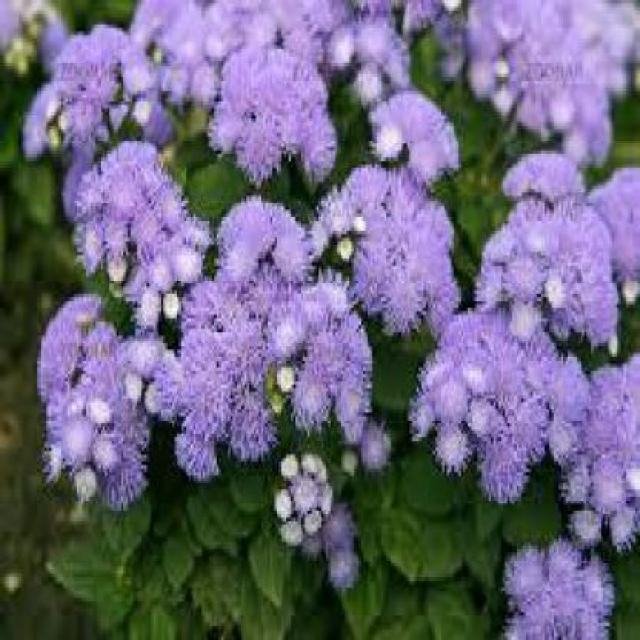flower: (161, 192, 328, 483), (400, 325, 572, 507), (36, 286, 153, 500), (72, 138, 208, 299), (336, 161, 458, 328), (484, 192, 619, 336), (271, 268, 369, 446)
